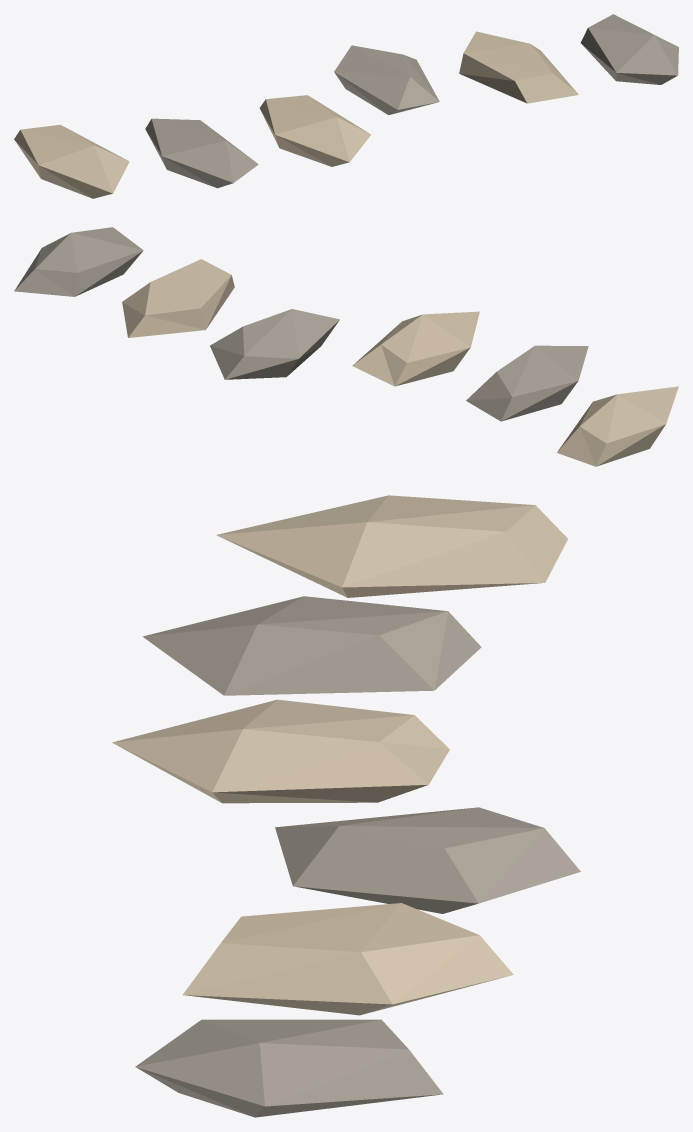
Rendered from stepping_stones_set.fbx.
The picture shows the model from 3 angles, top to bottom: view 1: azimuth 30°, elevation 25°; view 2: azimuth 150°, elevation 25°; view 3: azimuth 270°, elevation 25°; orthographic projection. The views are drawn at different scales.
Visible parts, largest first — view 1: stepping_stones_set; view 2: stepping_stones_set; view 3: stepping_stones_set.
Boxes of the visible parts, x1,y1,x2,y2 form: stepping_stones_set: (14, 14, 678, 198); stepping_stones_set: (14, 227, 678, 466); stepping_stones_set: (112, 495, 580, 1117).
Size of the model in its own units: 3 by 0.15 by 1.
